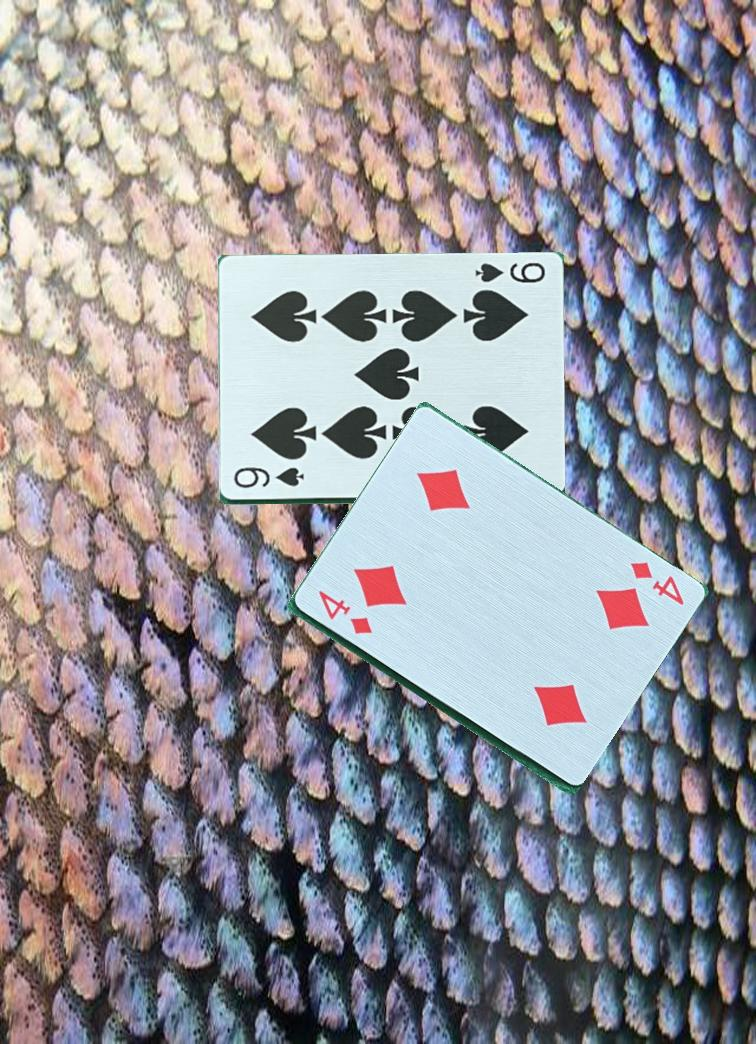4d: (626, 556, 687, 609), (314, 587, 375, 638)
9s: (471, 259, 548, 287), (230, 467, 307, 492)
